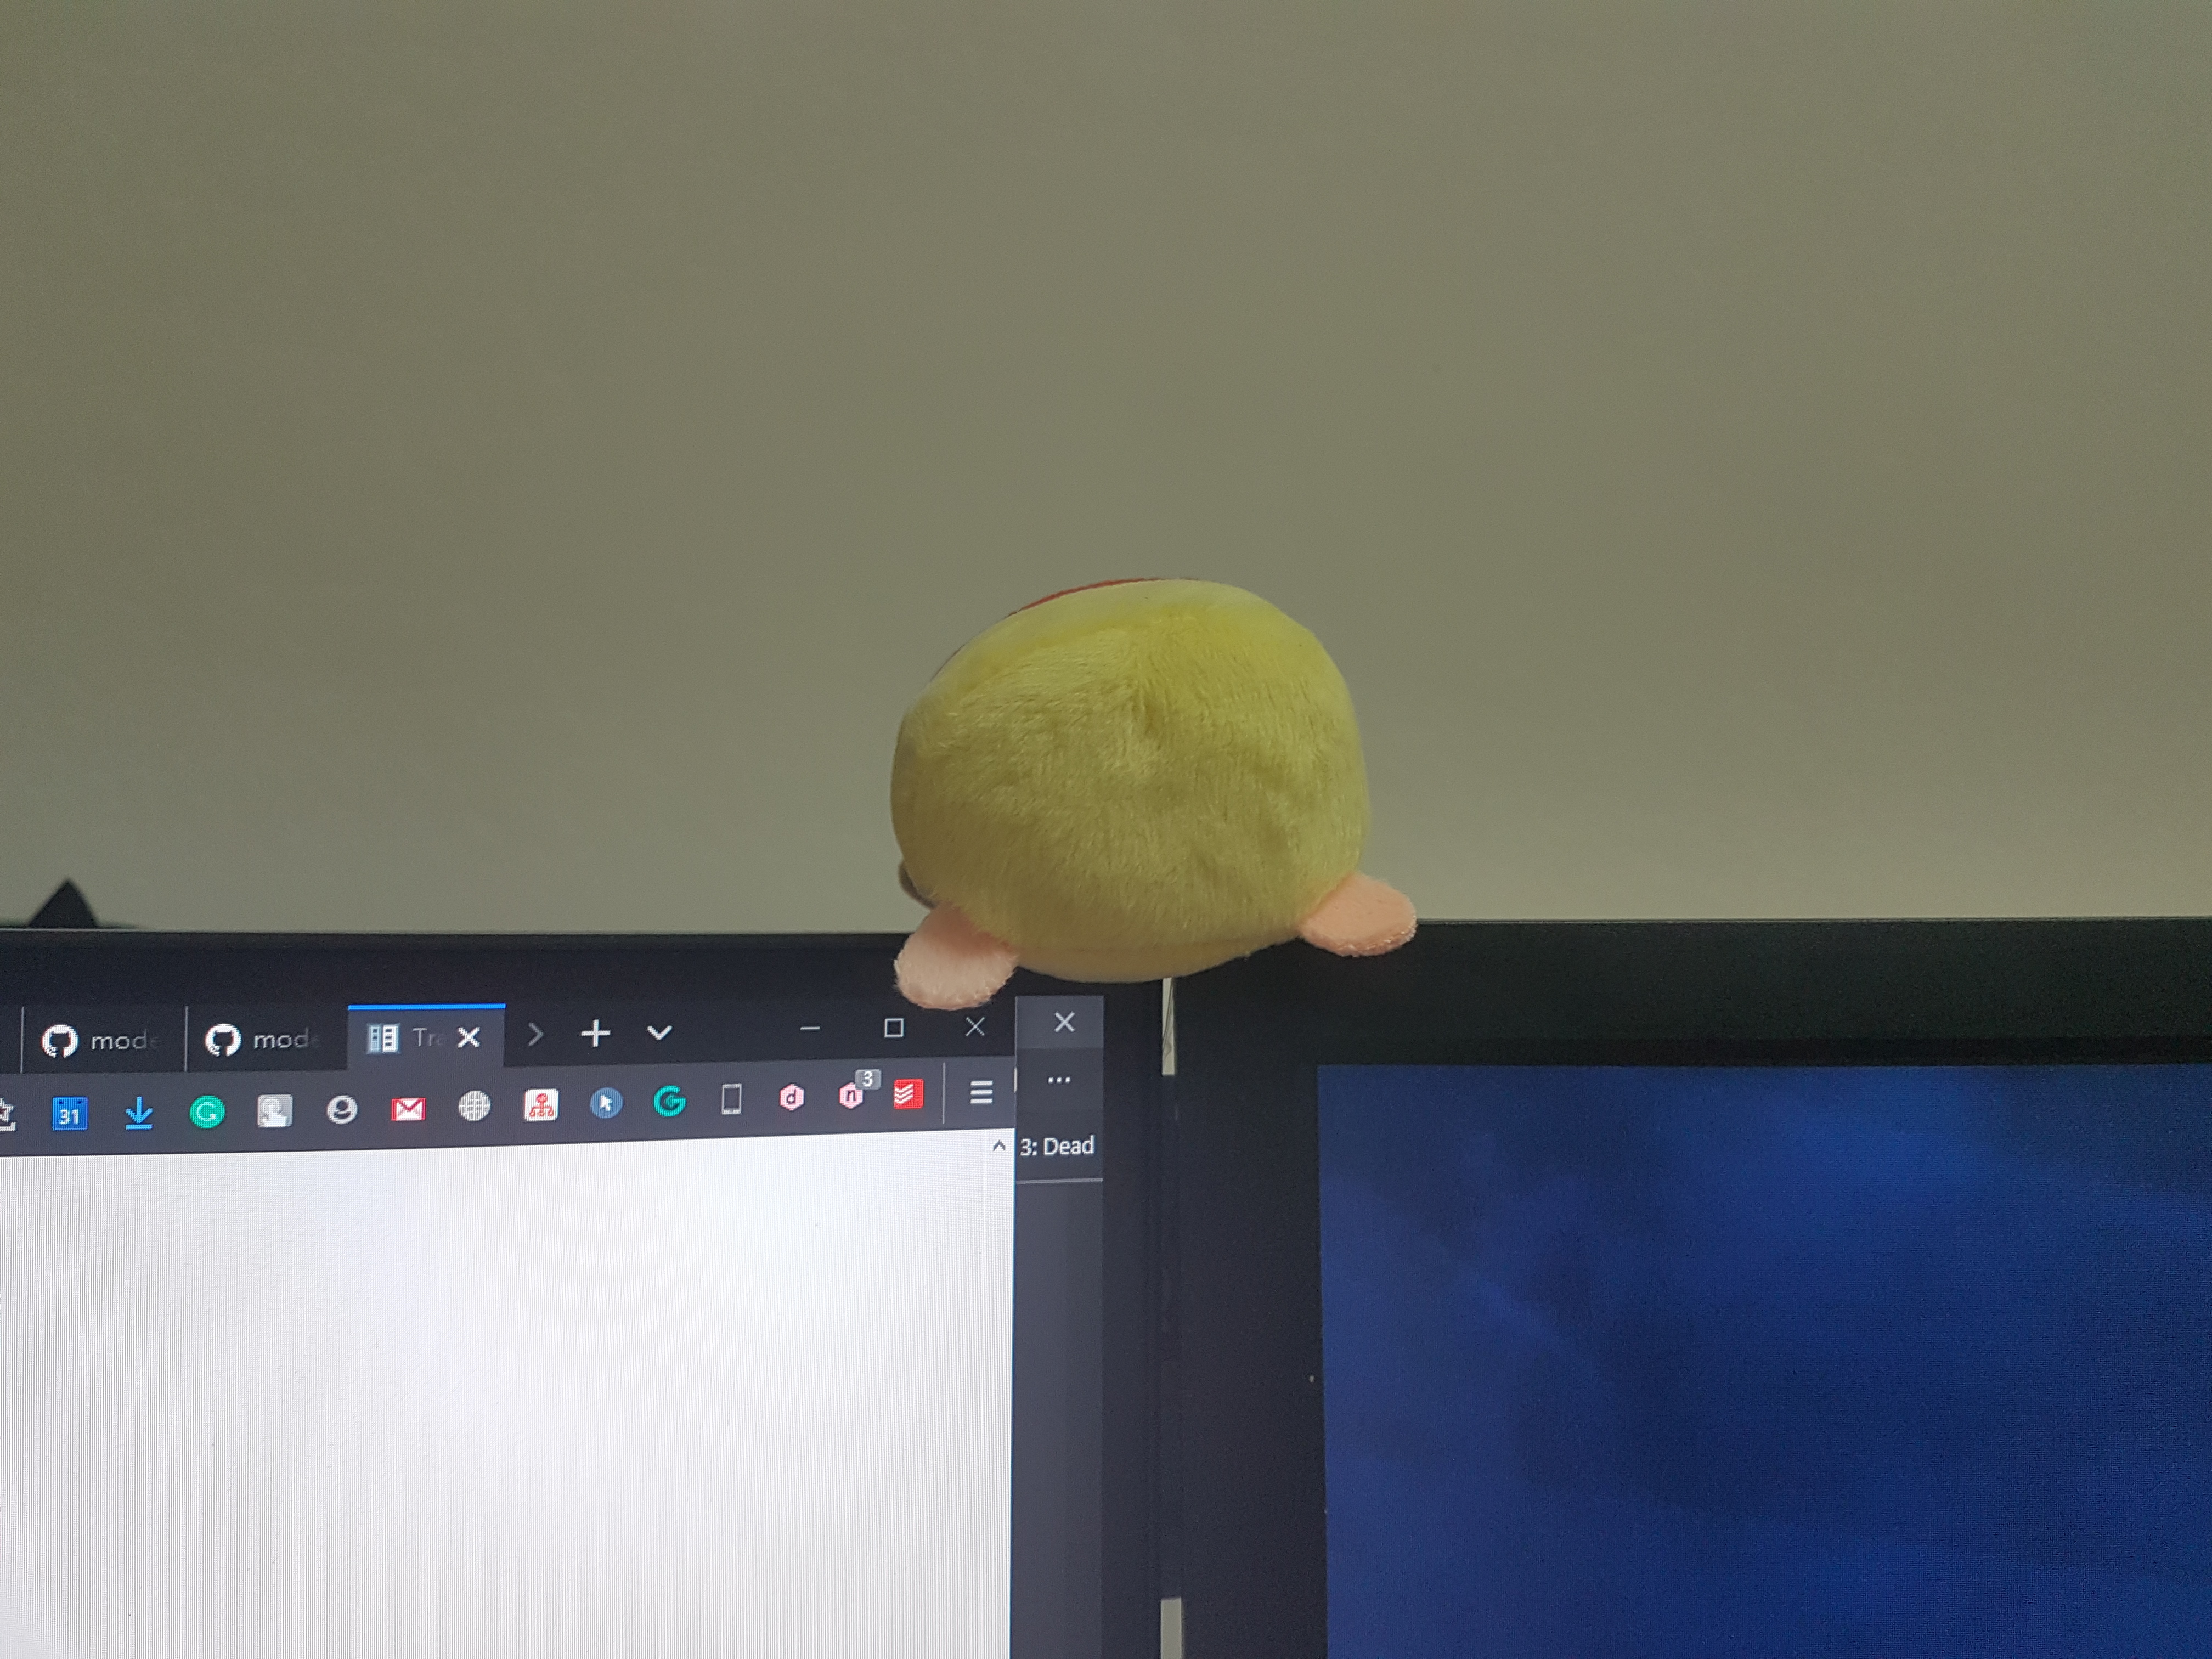stuffed toy: (890, 575, 1416, 1009)
